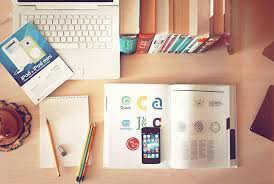pen: (42, 117, 62, 178), (80, 121, 99, 182), (75, 123, 89, 183)
